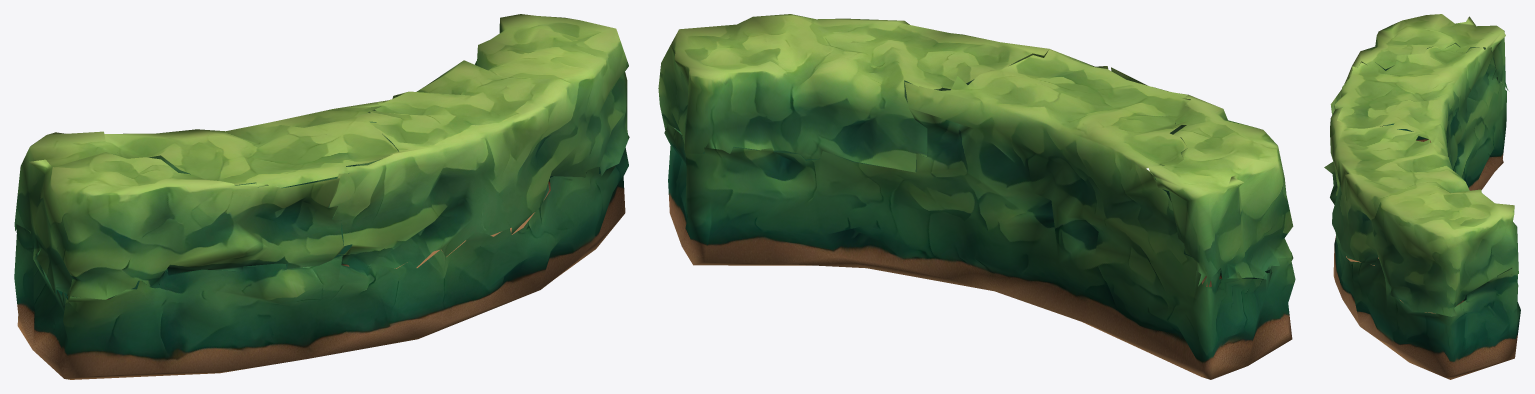
3 renders of one model, left to right at view 1: azimuth 30°, elevation 25°; view 2: azimuth 150°, elevation 25°; view 3: azimuth 270°, elevation 25°, orthographic. The views are drawn at different scales.
Visible parts, largest first — view 1: quad; view 2: quad; view 3: quad.
Boxes of the visible parts, x1=… form: quad: x1=14, y1=14, x2=629, y2=379; quad: x1=658, y1=14, x2=1295, y2=379; quad: x1=1324, y1=14, x2=1520, y2=379.
Size of the model in its own units: 400 by 124 by 147.
Materials: 1 (1 with a texture image).
